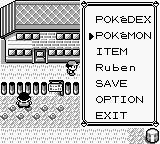leer: (48, 79, 64, 95)
main: (66, 60, 78, 75)
no-caminable: (1, 1, 80, 63), (0, 81, 47, 95), (144, 128, 159, 143), (65, 82, 80, 95)
npc: (16, 92, 32, 109)
puerta: (34, 49, 45, 63)
seleccionado: (88, 31, 152, 40)
texto: (81, 1, 159, 128)
